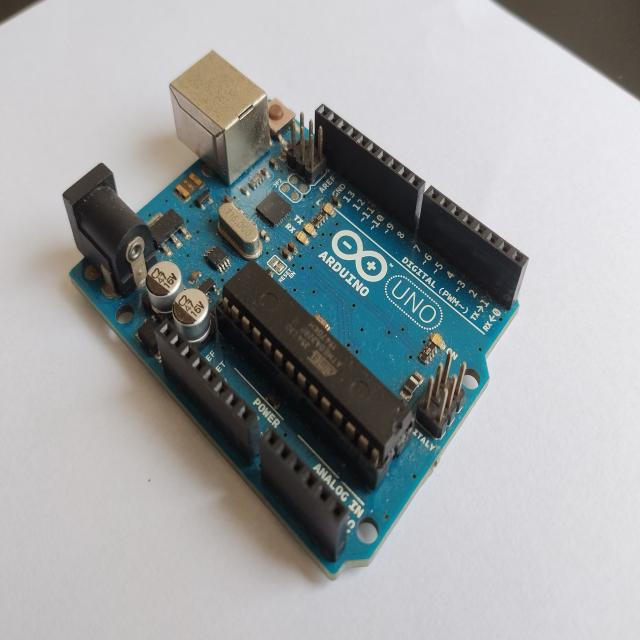arduino: (58, 51, 529, 585)
